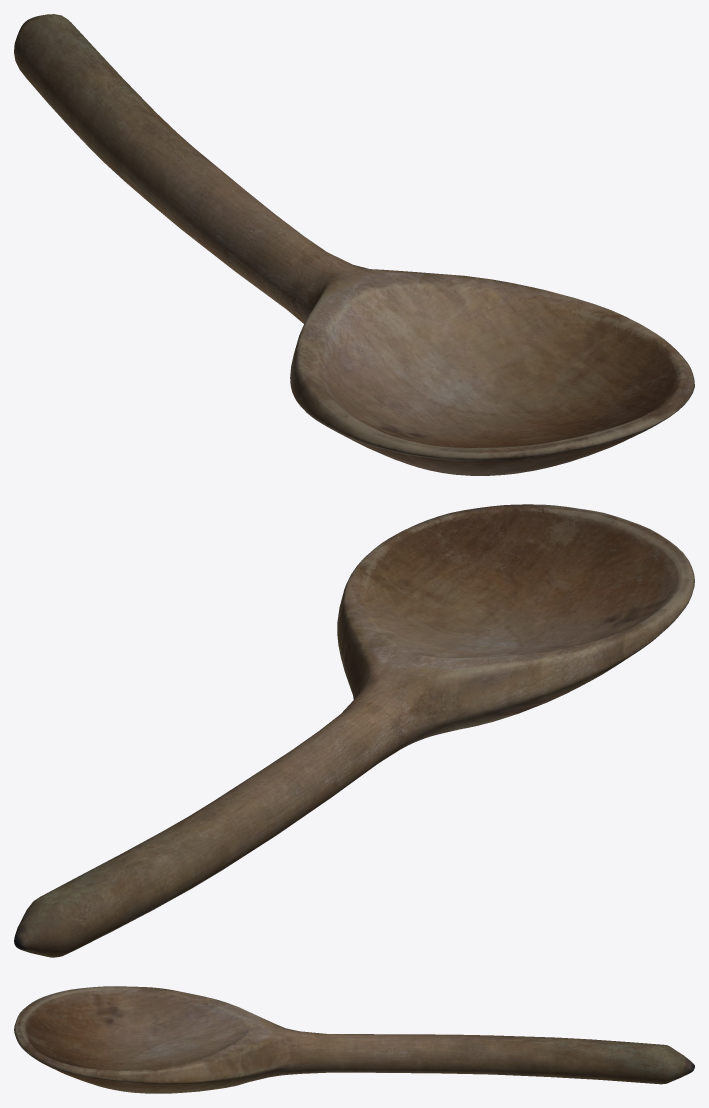
File: wooden_spoon.fbx
3 renders of one model, top to bottom at view 1: azimuth 30°, elevation 25°; view 2: azimuth 150°, elevation 25°; view 3: azimuth 270°, elevation 25°, orthographic. The views are drawn at different scales.
Parts seen in each view (by area): view 1: wooden_spoon_LOD0; view 2: wooden_spoon_LOD0; view 3: wooden_spoon_LOD0.
Boxes of the visible parts, x1=… form: wooden_spoon_LOD0: x1=14, y1=14, x2=694, y2=475; wooden_spoon_LOD0: x1=14, y1=504, x2=694, y2=957; wooden_spoon_LOD0: x1=14, y1=986, x2=694, y2=1093.
Size of what is drawn, in the model's own units: 8.67 by 2.51 by 27.76.
Materials: 1 (1 with a texture image).
